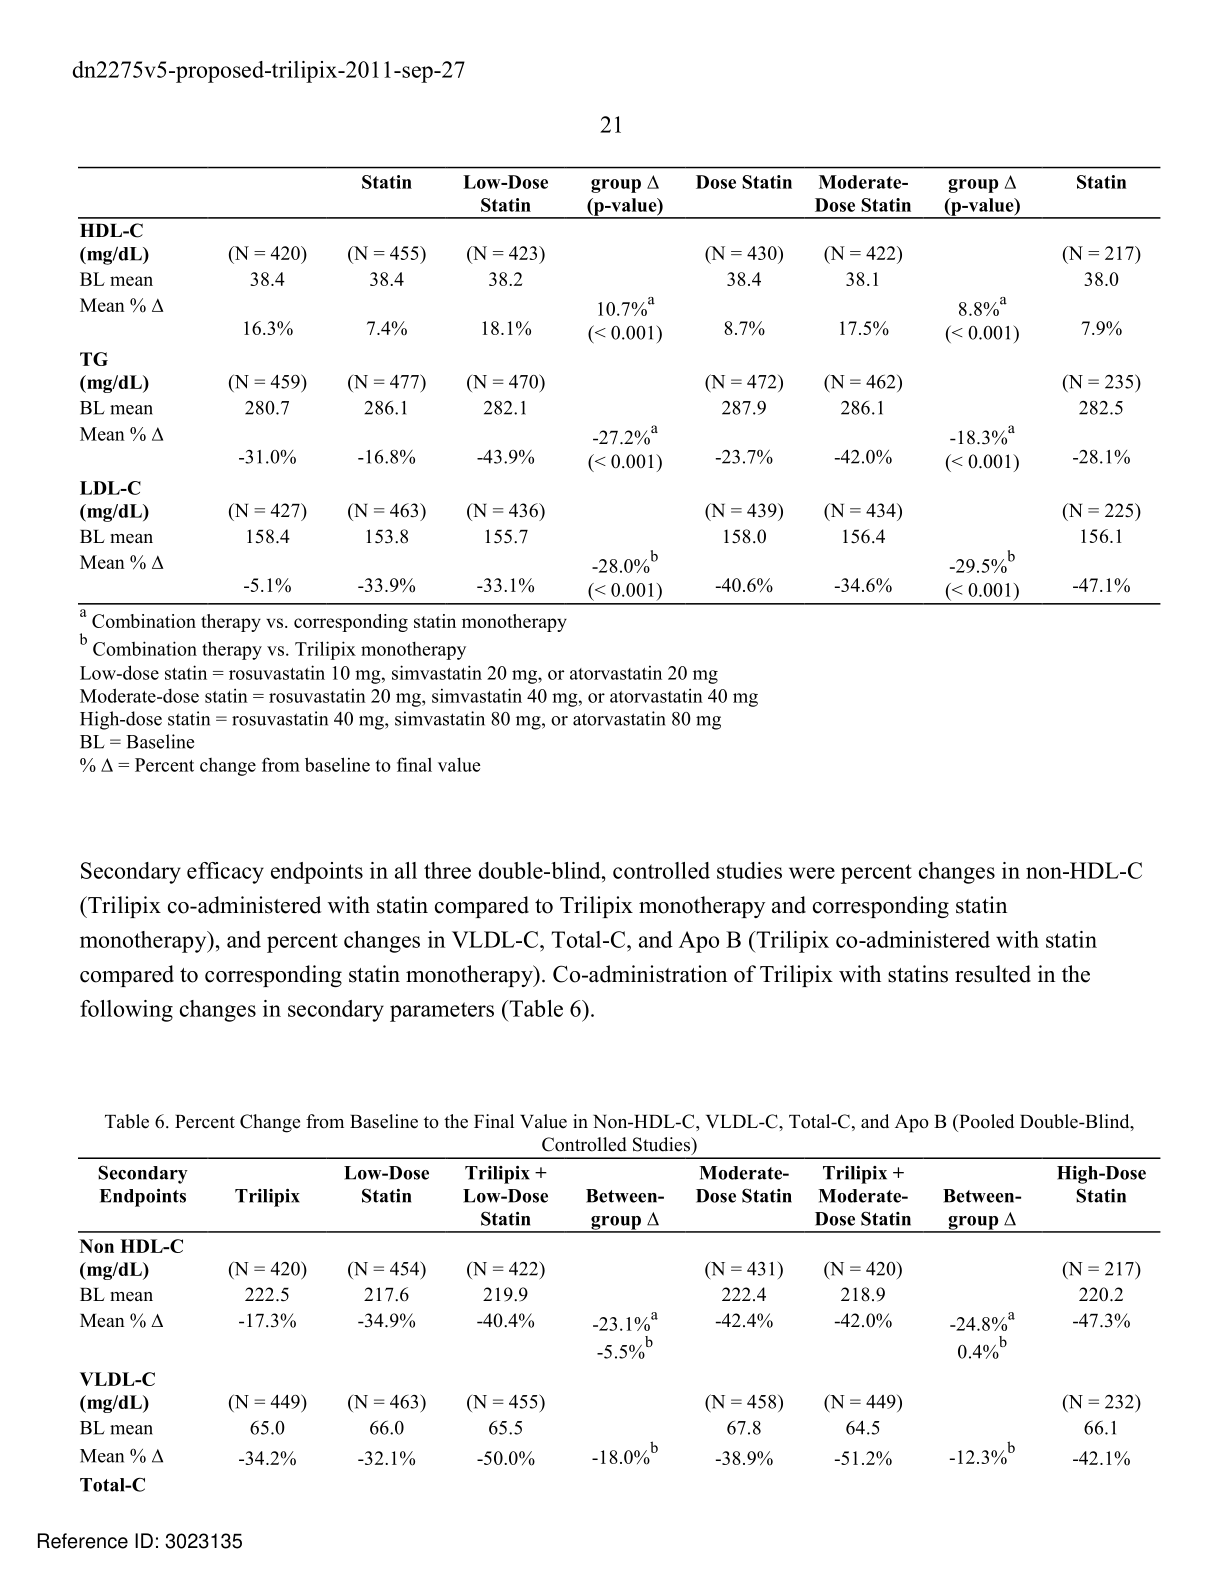partial_lined: (76, 165, 1162, 607), (72, 1153, 1167, 1475)
